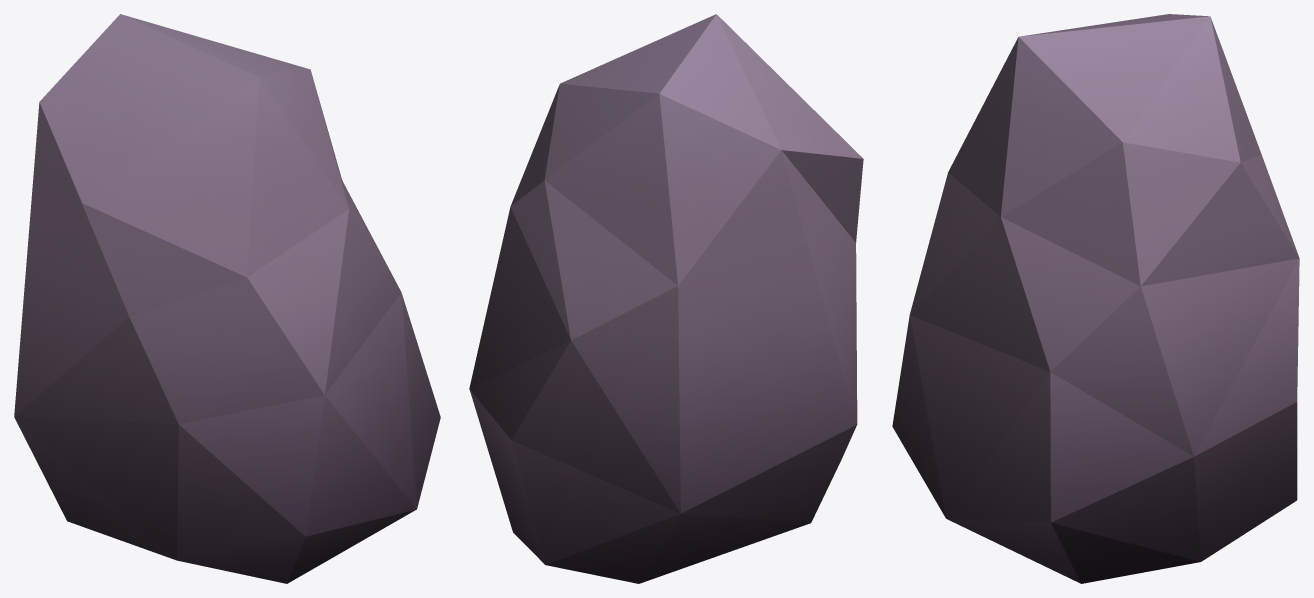
The picture shows the model from 3 angles, left to right: view 1: azimuth 30°, elevation 25°; view 2: azimuth 150°, elevation 25°; view 3: azimuth 270°, elevation 25°; orthographic projection. The views are drawn at different scales.
Parts seen in each view (by area): view 1: Base_05; view 2: Base_05; view 3: Base_05.
Boxes of the visible parts, left/top/right/bottom form: Base_05: left=14, top=14, right=440, bottom=583; Base_05: left=469, top=14, right=863, bottom=583; Base_05: left=892, top=14, right=1299, bottom=583.
Bounding box in the file's own units: 0.5981 × 0.7489 × 0.5511.
